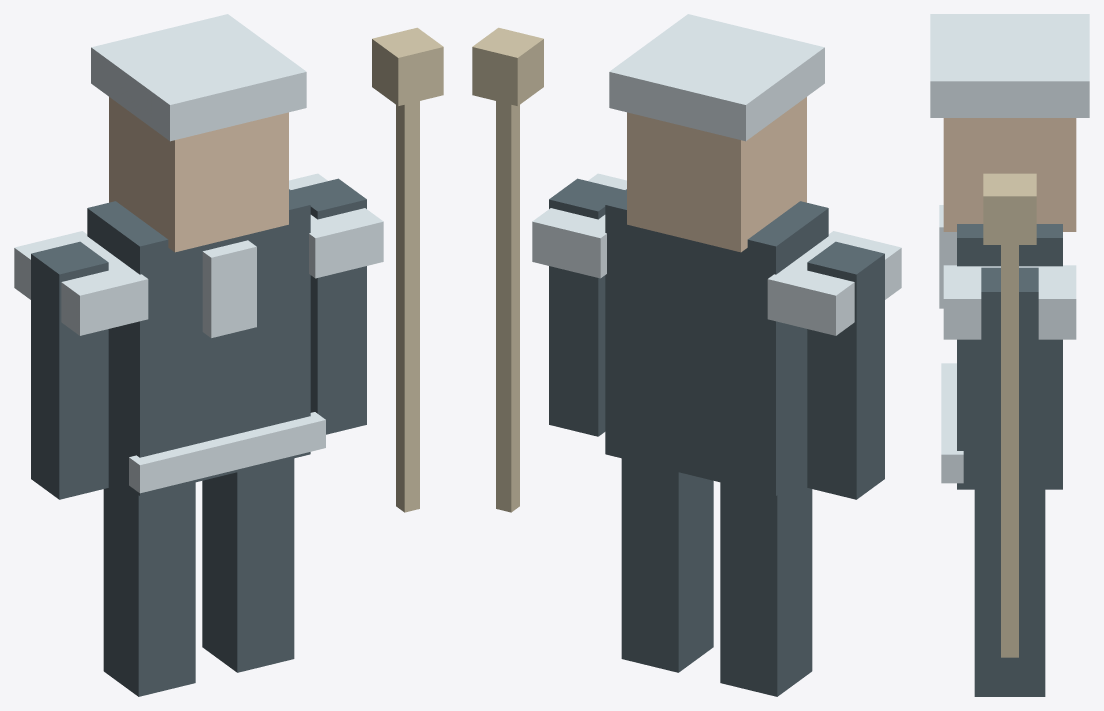
File: 20_korra_holloway_warden_near_central.glb
3 renders of one model, left to right at view 1: azimuth 30°, elevation 25°; view 2: azimuth 150°, elevation 25°; view 3: azimuth 270°, elevation 25°, orthographic.
Parts seen in each view (by area): view 1: Korra Holloway, Warden near Central; view 2: Korra Holloway, Warden near Central; view 3: Korra Holloway, Warden near Central.
Part boxes in pixels (x1,y1,x2,y2): Korra Holloway, Warden near Central: (14,14,443,696); Korra Holloway, Warden near Central: (472,14,901,696); Korra Holloway, Warden near Central: (930,14,1089,696).
Size of the model in its own units: 1.07 by 1.61 by 0.3794.
